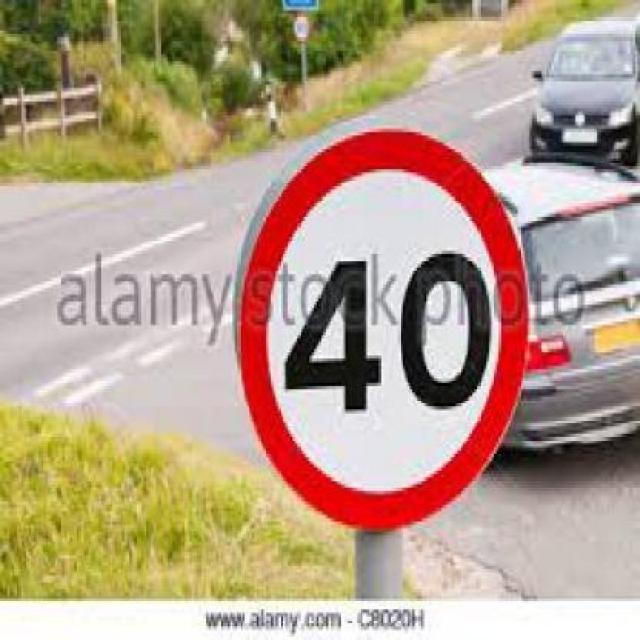forb_speed_over_40: (238, 133, 530, 527)
